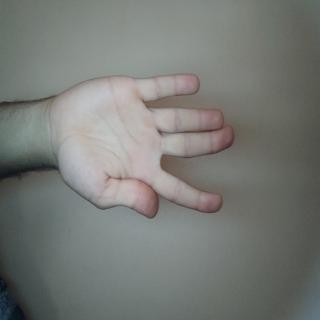SHEEN: (44, 108, 164, 320)
